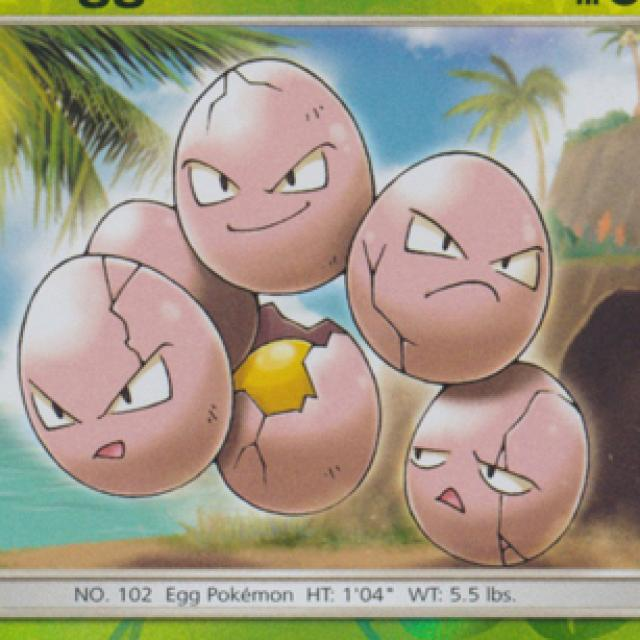Exeggcute: (38, 62, 558, 517)
